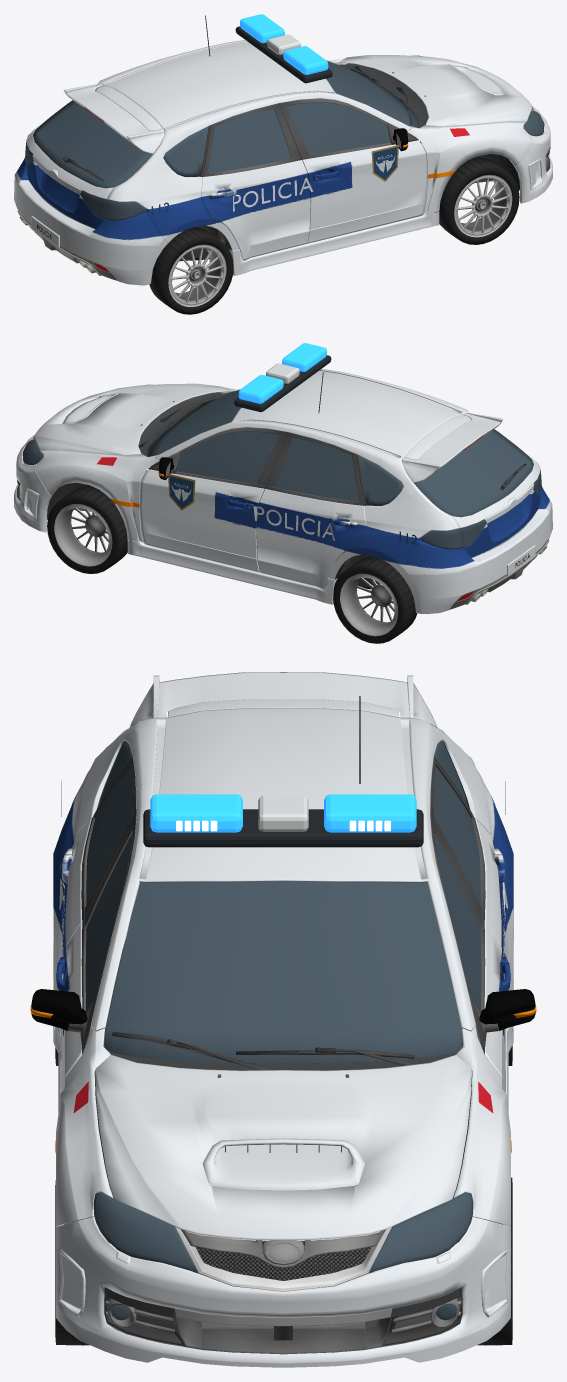
File: patrol_sedan.glb
3 renders of one model, top to bottom at view 1: azimuth 30°, elevation 25°; view 2: azimuth 150°, elevation 25°; view 3: azimuth 270°, elevation 25°, orthographic. The views are drawn at different scales.
Visible parts, largest first — view 1: S8_body, S8_glass, S8_interior, Textured road tire and alloy RR, Textured road tire and alloy FR, Batch_Blue emergency lens, Batch_Pearl white paint, Batch_Graphite, Batch_Deep blue enamel; view 2: S8_body, S8_glass, S8_interior, Textured road tire and alloy RL, Textured road tire and alloy FL, Batch_Blue emergency lens, Batch_Pearl white paint, Batch_Graphite, Batch_Deep blue enamel; view 3: S8_body, S8_glass, S8_interior, Batch_Blue emergency lens, Batch_Graphite, Batch_Pearl white paint, Batch_Headlamp LED.
Boxes of the visible parts, x1=… form: S8_body: x1=14, y1=40, x2=552, y2=285; S8_glass: x1=25, y1=61, x2=544, y2=220; S8_interior: x1=17, y1=63, x2=550, y2=280; Textured road tire and alloy RR: x1=149, y1=227, x2=233, y2=314; Textured road tire and alloy FR: x1=434, y1=157, x2=519, y2=244; Batch_Blue emergency lens: x1=240, y1=14, x2=328, y2=74; Batch_Pearl white paint: x1=31, y1=34, x2=392, y2=247; Batch_Graphite: x1=37, y1=15, x2=332, y2=239; Batch_Deep blue enamel: x1=151, y1=147, x2=397, y2=215; S8_body: x1=14, y1=368, x2=552, y2=613; S8_glass: x1=22, y1=389, x2=541, y2=549; S8_interior: x1=16, y1=391, x2=549, y2=609; Textured road tire and alloy RL: x1=333, y1=556, x2=417, y2=643; Textured road tire and alloy FL: x1=47, y1=486, x2=131, y2=573; Batch_Blue emergency lens: x1=238, y1=343, x2=326, y2=403; Batch_Pearl white paint: x1=174, y1=363, x2=535, y2=576; Batch_Graphite: x1=234, y1=355, x2=529, y2=567; Batch_Deep blue enamel: x1=169, y1=476, x2=417, y2=544; S8_body: x1=31, y1=672, x2=535, y2=1367; S8_glass: x1=85, y1=717, x2=481, y2=1320; S8_interior: x1=30, y1=756, x2=536, y2=1354; Batch_Blue emergency lens: x1=150, y1=794, x2=416, y2=832; Batch_Graphite: x1=143, y1=696, x2=423, y2=847; Batch_Pearl white paint: x1=59, y1=796, x2=507, y2=979; Batch_Headlamp LED: x1=176, y1=820, x2=390, y2=831.
Size of the model in its own units: 4.43 by 1.92 by 1.98.
16 materials, 6 textured.
